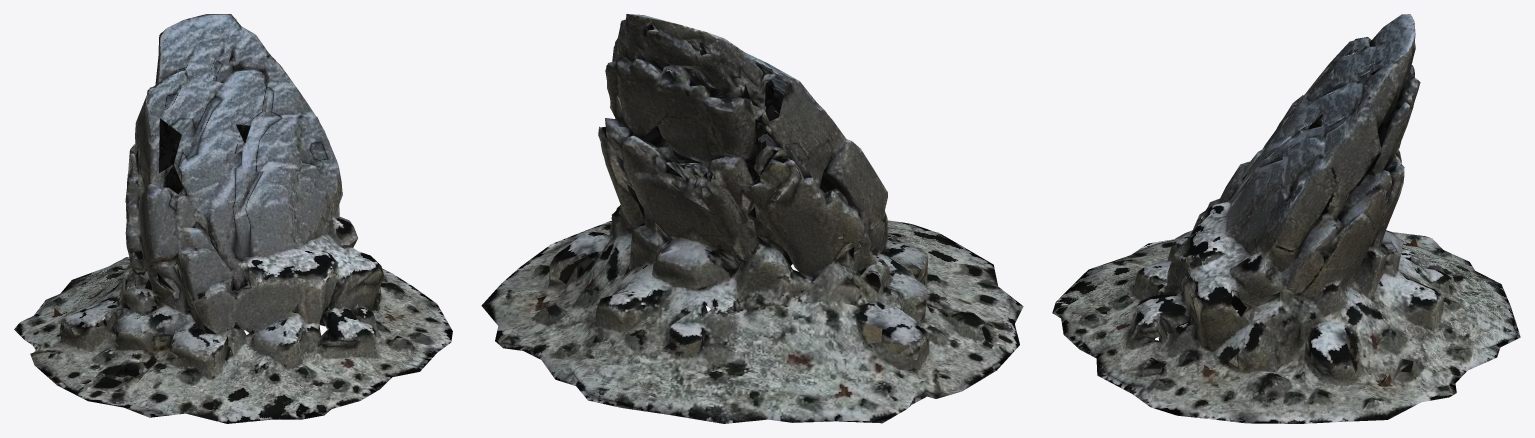
Rendered from snow-big-rock-2.glb.
3 views of the same model, side by side, from view 1: azimuth 30°, elevation 25°; view 2: azimuth 150°, elevation 25°; view 3: azimuth 270°, elevation 25° (orthographic). The views are drawn at different scales.
Parts seen in each view (by area): view 1: geometry_0; view 2: geometry_0; view 3: geometry_0.
Boxes of the visible parts, left/top/right/bottom form: geometry_0: left=14, top=14, right=452, bottom=423; geometry_0: left=481, top=14, right=1023, bottom=423; geometry_0: left=1052, top=14, right=1520, bottom=423.
Size of the model in its own units: 0.9458 by 0.6752 by 0.9343.
1 material, 1 textured.
